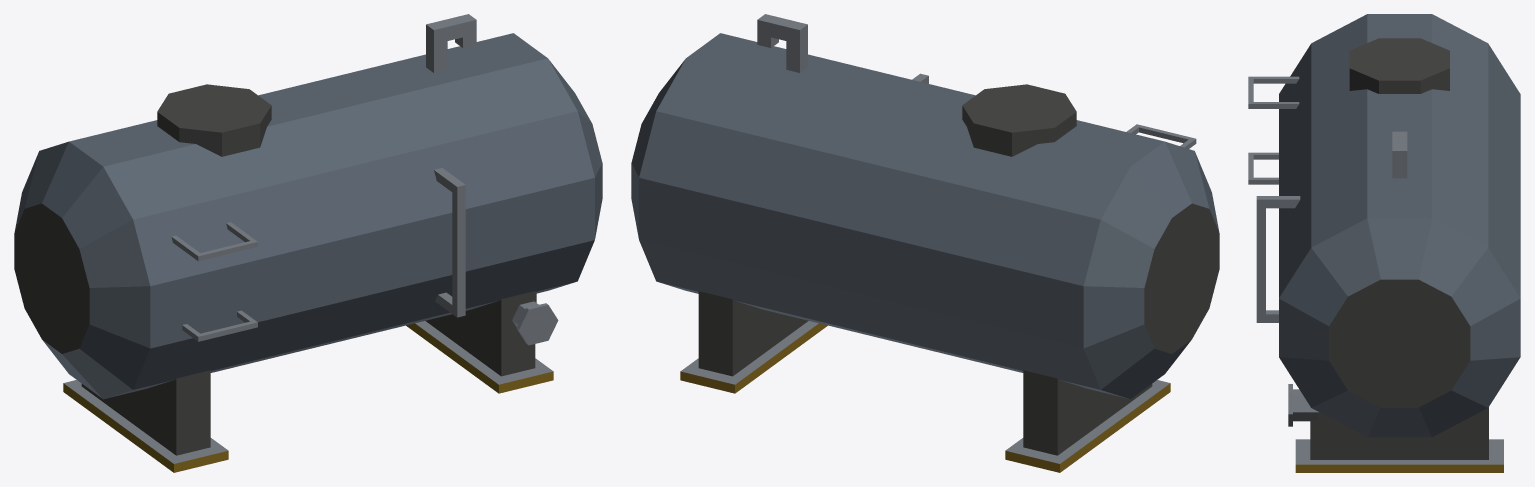
File: coolant_tank.glb
The picture shows the model from 3 angles, left to right: view 1: azimuth 30°, elevation 25°; view 2: azimuth 150°, elevation 25°; view 3: azimuth 270°, elevation 25°; orthographic projection. The views are drawn at different scales.
Parts seen in each view (by area): view 1: coolant_tank; view 2: coolant_tank; view 3: coolant_tank.
Boxes of the visible parts, x1=… form: coolant_tank: x1=14, y1=14, x2=602, y2=472; coolant_tank: x1=631, y1=14, x2=1219, y2=472; coolant_tank: x1=1248, y1=14, x2=1520, y2=472.
Size of the model in its own units: 3 by 1.84 by 1.46.
